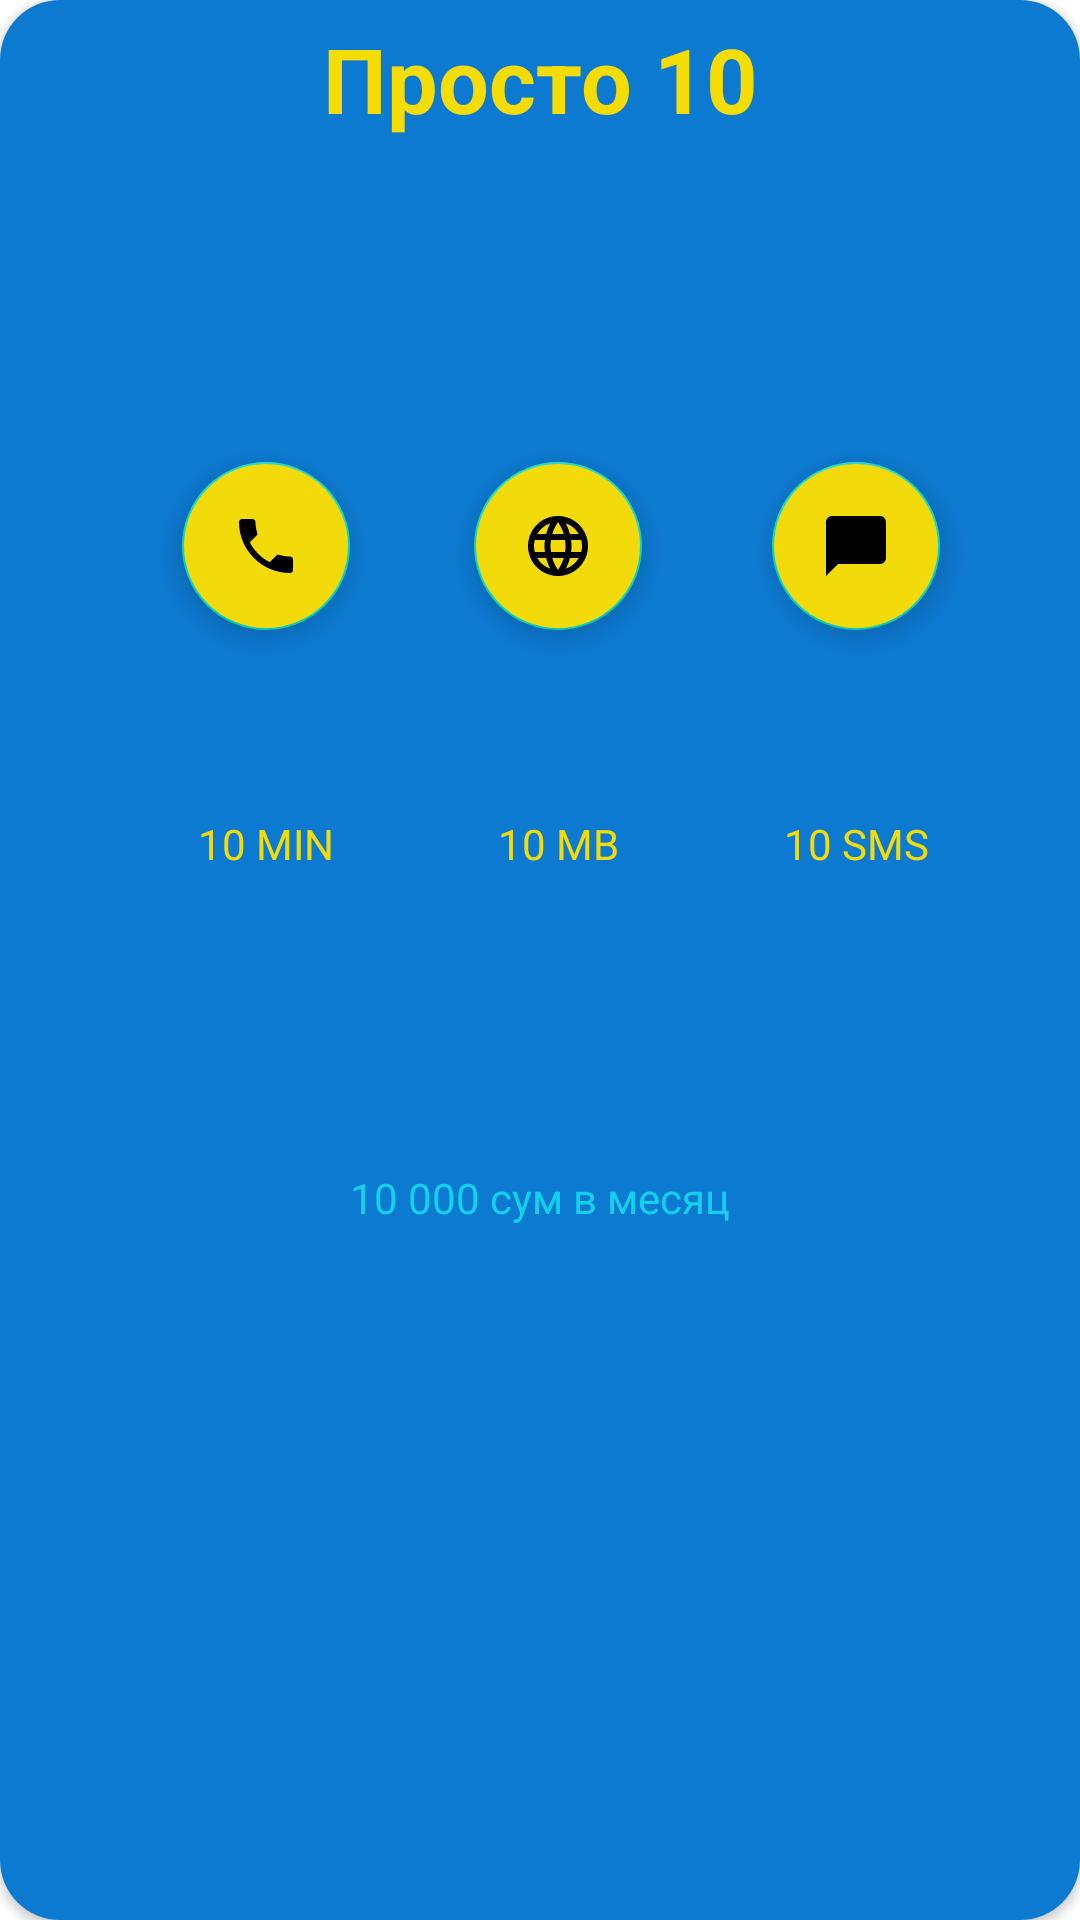

Point at icon controls on the screen. Image size 1080px x 1920px, points as (x=x, y=y).
chat bubble: (x=856, y=546)
language: (x=558, y=546)
phone: (x=266, y=546)
